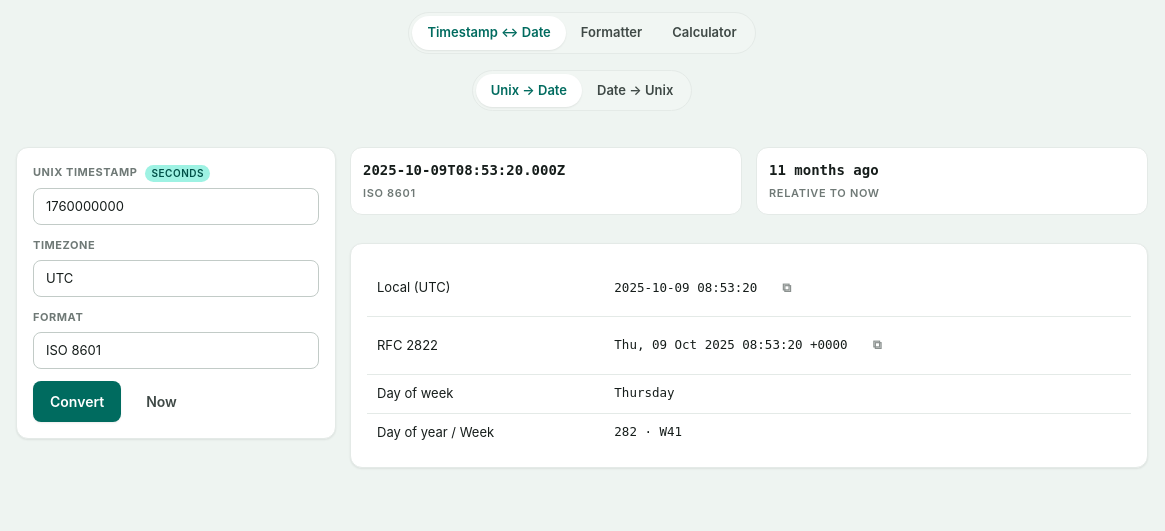
Test case: DateToolsPage — calculator add/subtract sub-mode › calendar-day addition updates the result date
The image size is (1165, 531).
Click the button "Calculator" at (704, 33), box x1=657 y1=16 x2=752 y2=50
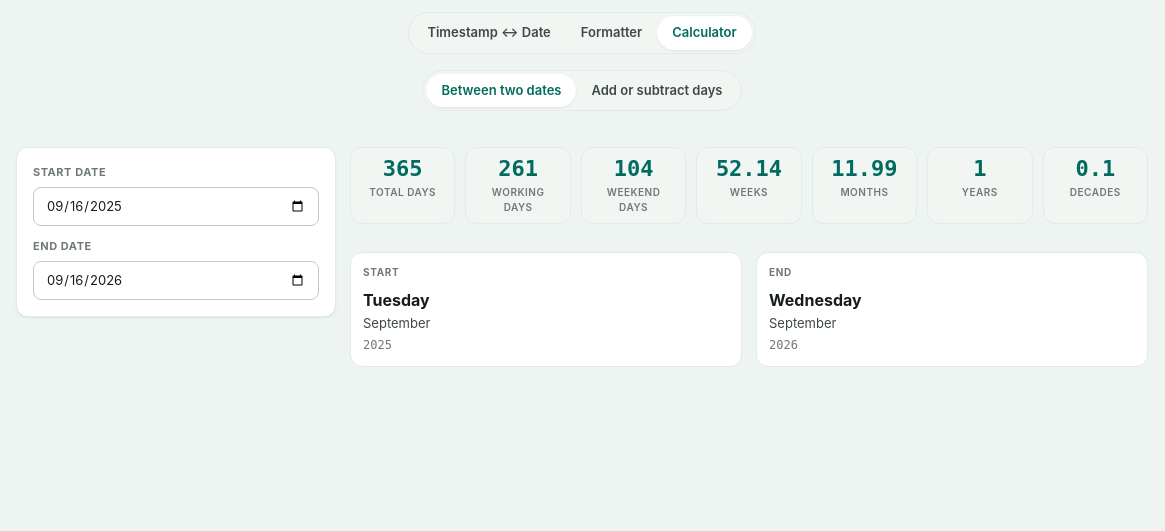
Click the button "Add or subtract days" at (657, 90), box x1=576 y1=74 x2=738 y2=107
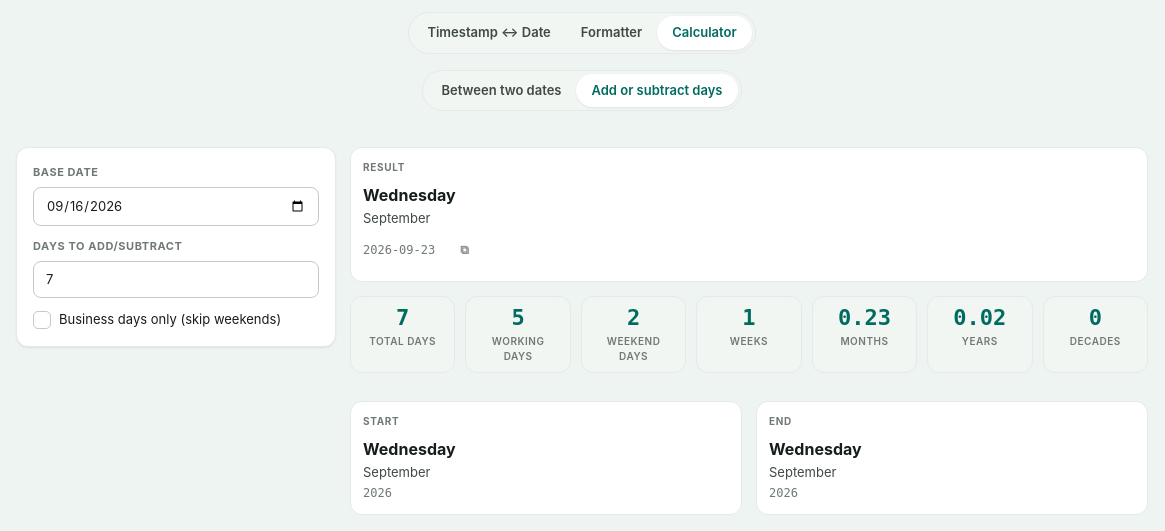
Type "2025-01-01" into the date field labelled "Base date" at (176, 206), box x1=33 y1=186 x2=319 y2=226
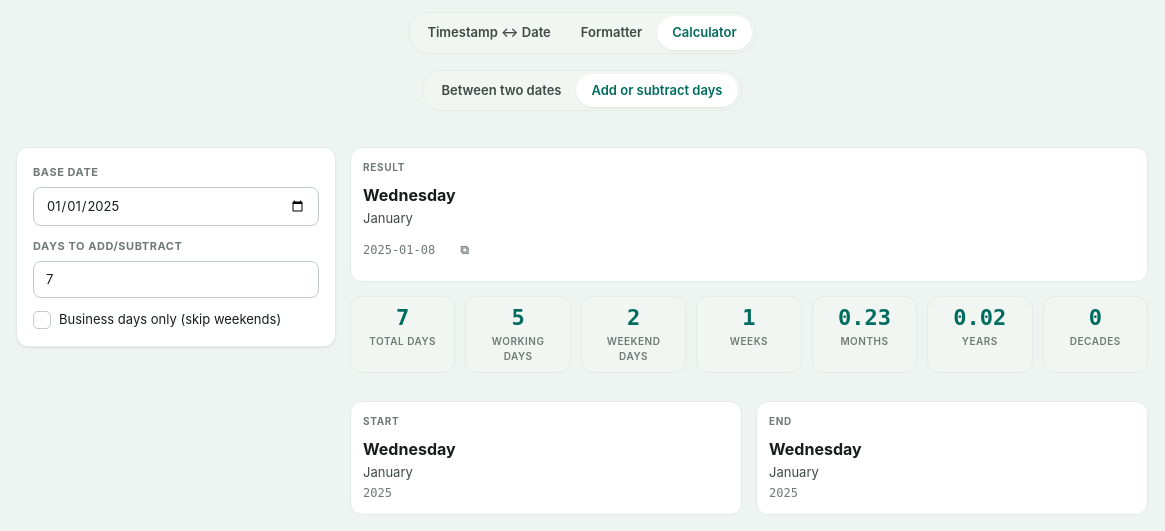
Replace the text in the number field labelled "Days to add/subtract" with "10" at (176, 279), box x1=33 y1=260 x2=319 y2=298
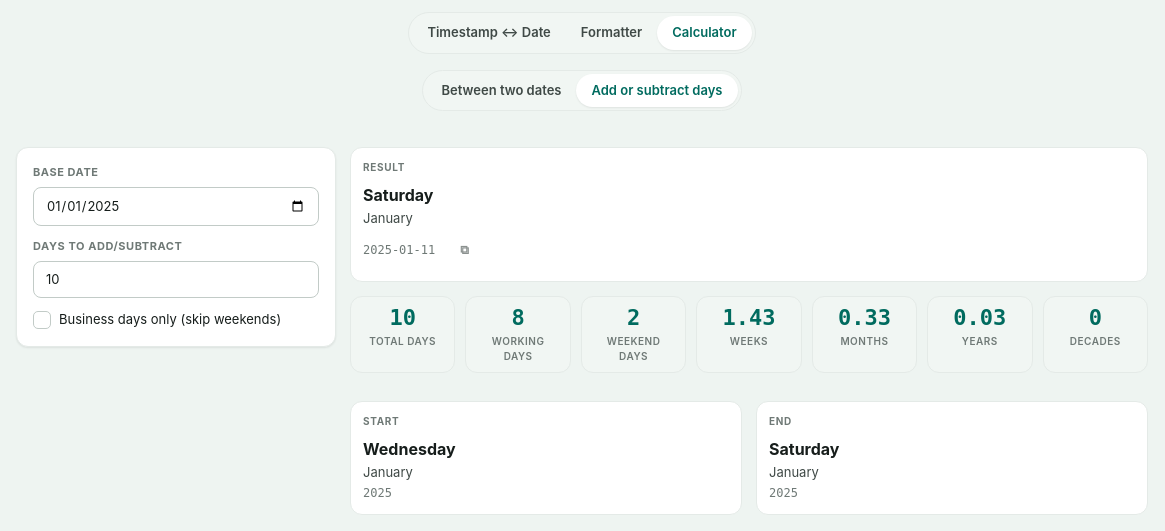
Check: the text "2025-01-11" is shown, box x1=363 y1=242 x2=435 y2=256
